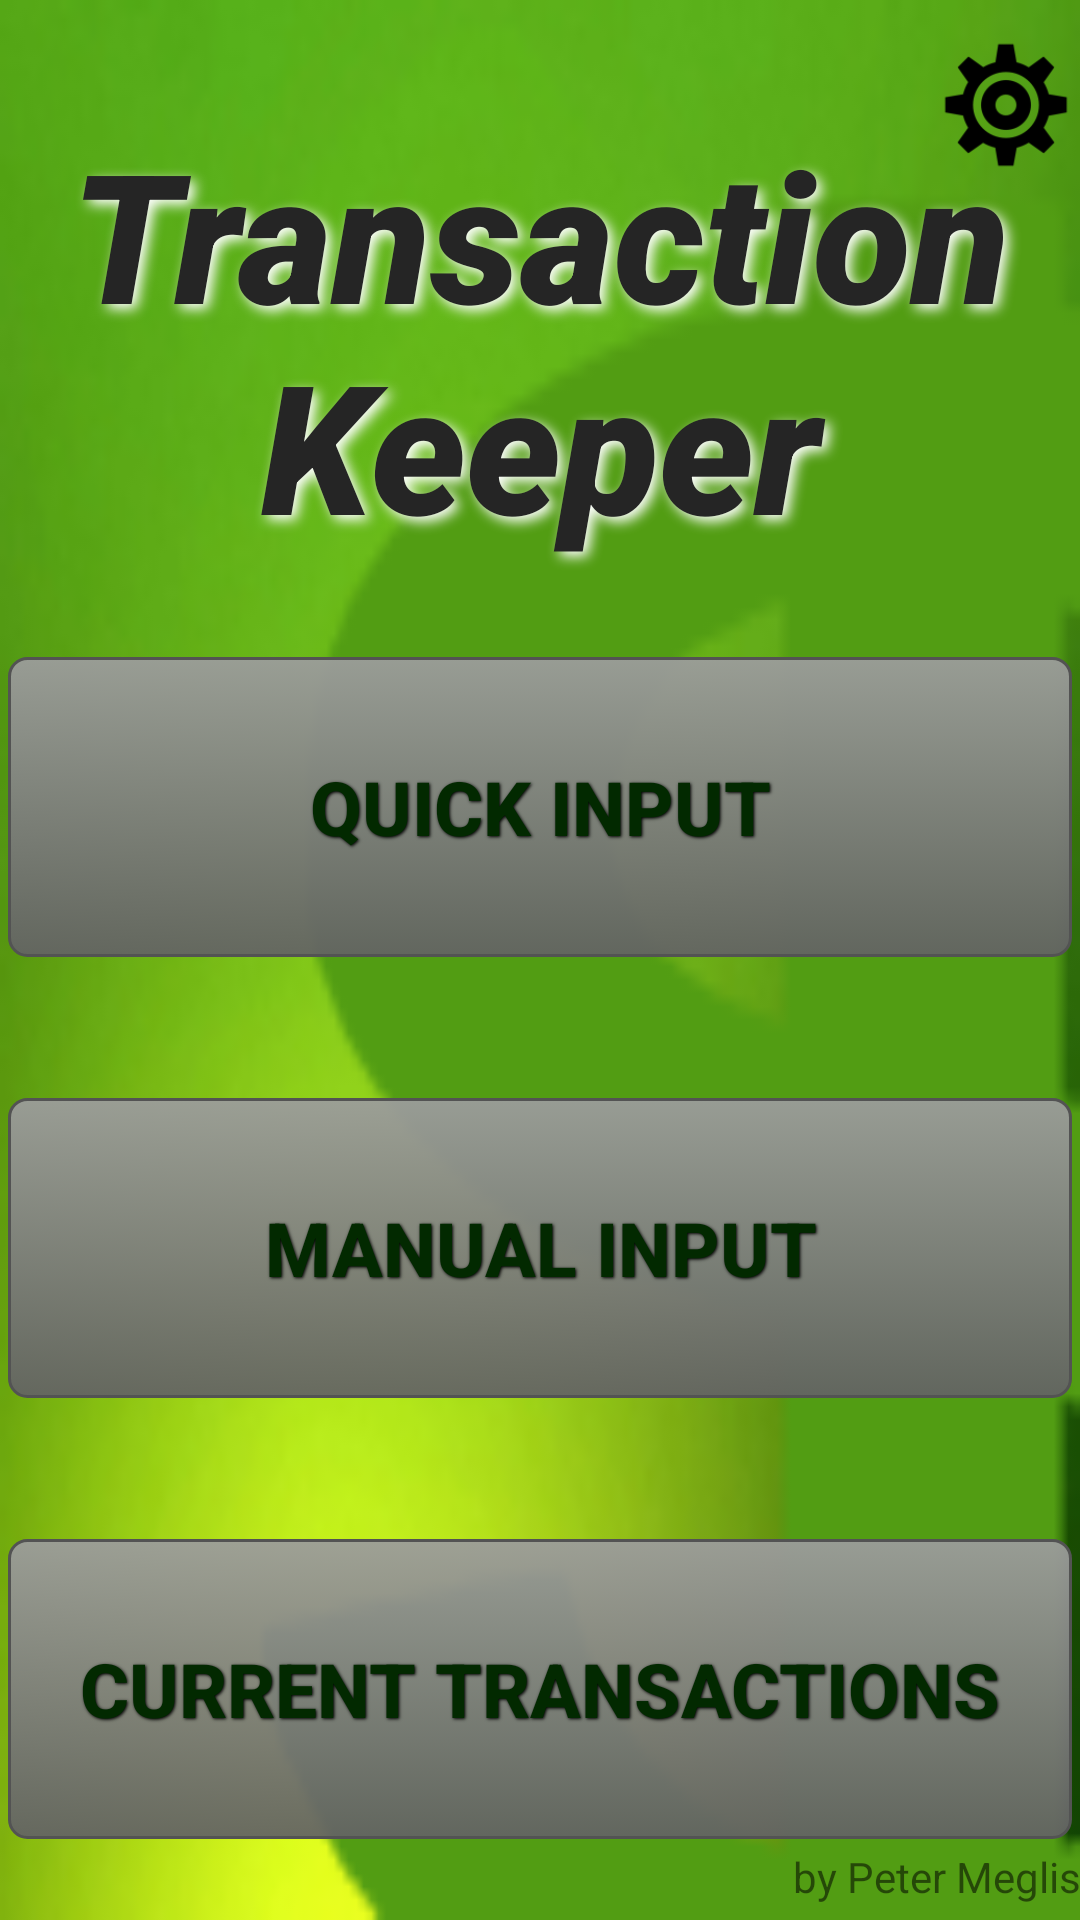

Icons on this 1080 x 1920 Android screen, each with the point to tap as (x,y):
settings: (1006,105)
